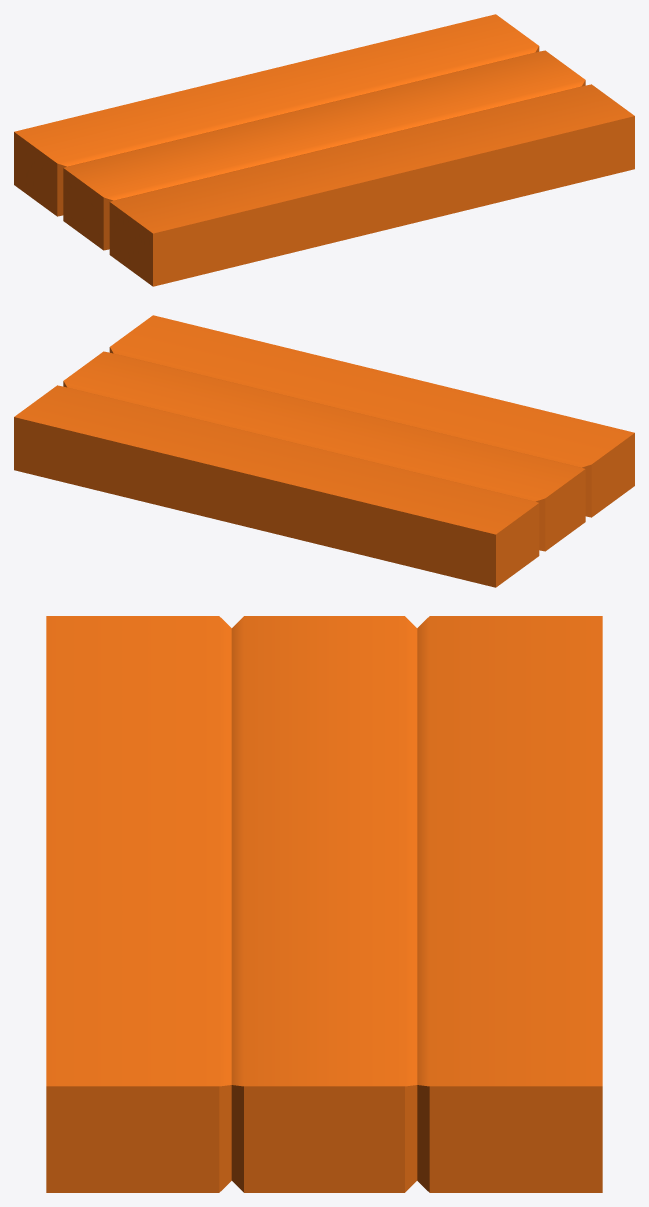
The model's file is Counter_Top_02_D.fbx.
3 renders of one model, top to bottom at view 1: azimuth 30°, elevation 25°; view 2: azimuth 150°, elevation 25°; view 3: azimuth 270°, elevation 25°, orthographic. The views are drawn at different scales.
Parts seen in each view (by area): view 1: Counter_Top_02_D; view 2: Counter_Top_02_D; view 3: Counter_Top_02_D.
Boxes of the visible parts, <box> form: Counter_Top_02_D: <box>14,14,634,286</box>; Counter_Top_02_D: <box>14,315,634,587</box>; Counter_Top_02_D: <box>46,616,602,1192</box>.
Size of the model in its own units: 200 by 21.09 by 100.
